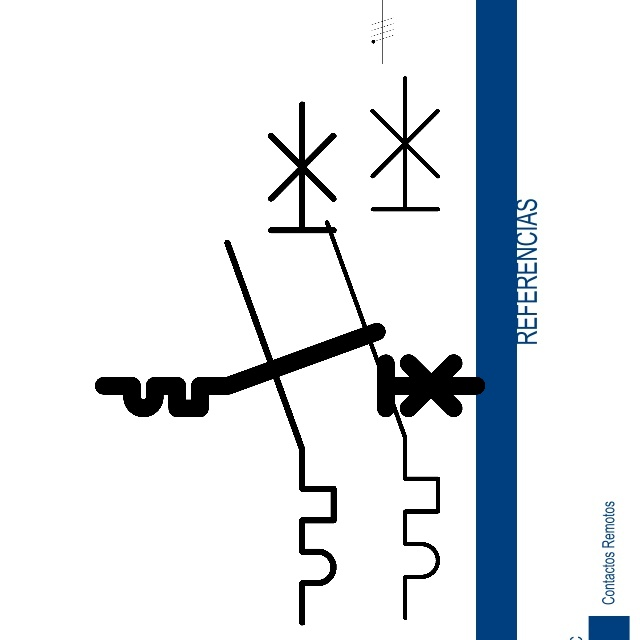interruptor_termomagnetico: (313, 64, 452, 631), (214, 91, 347, 636), (94, 322, 485, 418)
